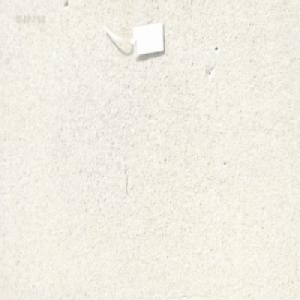LuggageTag: (99, 18, 166, 60)
